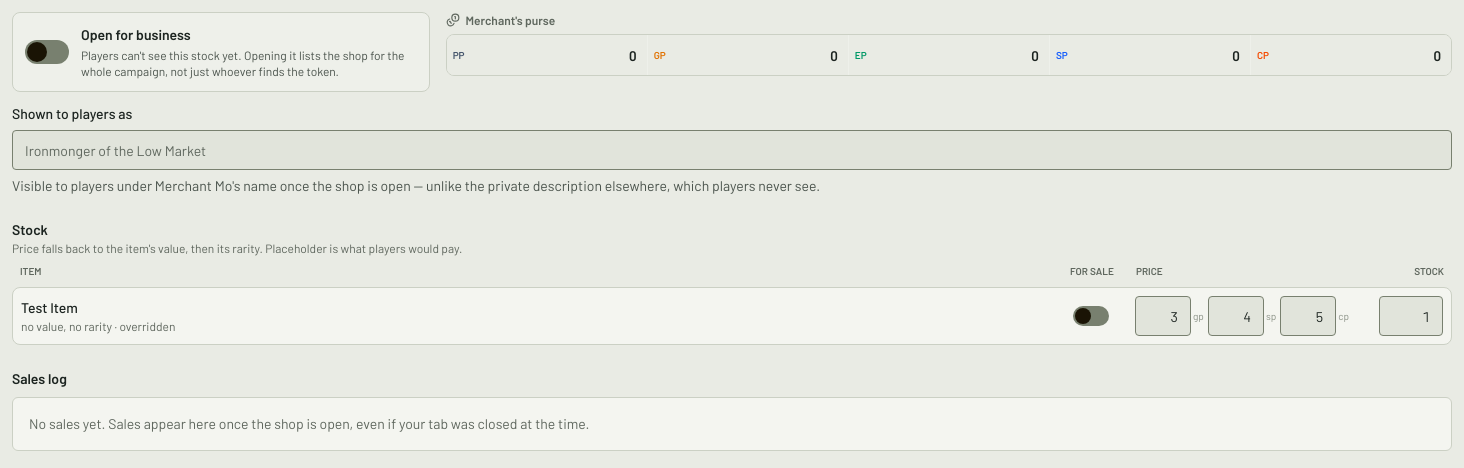
Scenario: NPCShopTab › clearing all three price fields removes the override entirely (falls through to the placeholder)
The width and height of the screenshot is (1464, 468).
Clear the field named "Test Item price (gp)" at [1163, 316], box [1135, 296, 1191, 336]
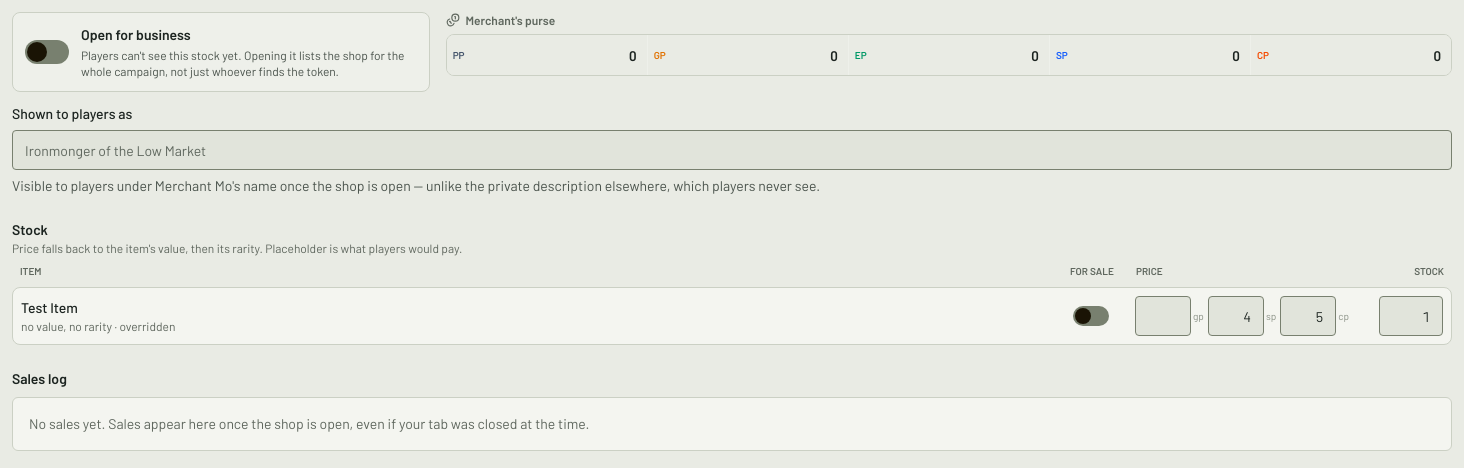
Clear the field named "Test Item price (sp)" at [1236, 316], box [1208, 296, 1264, 336]
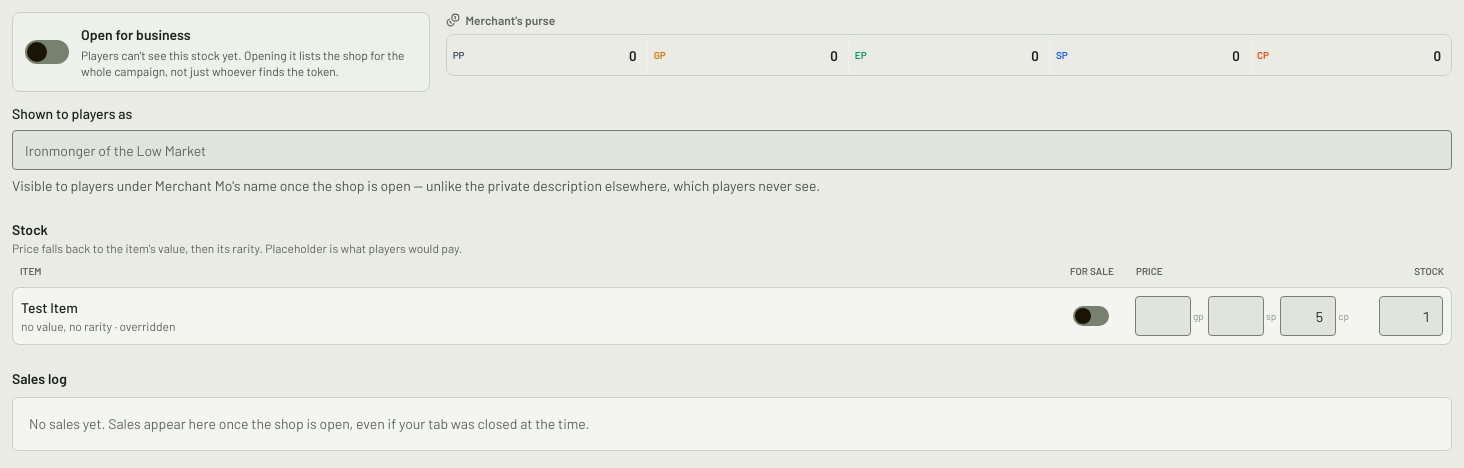
Clear the field named "Test Item price (cp)" at [1308, 316], box [1280, 296, 1336, 336]
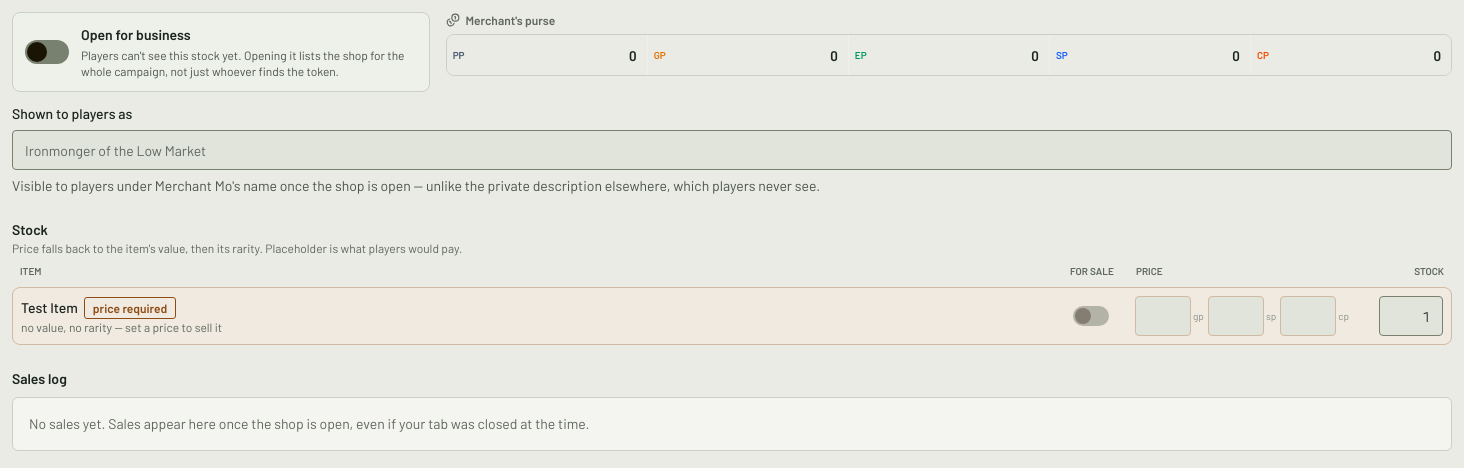
Expected: the text "price required" is shown, [84, 297, 176, 319]
